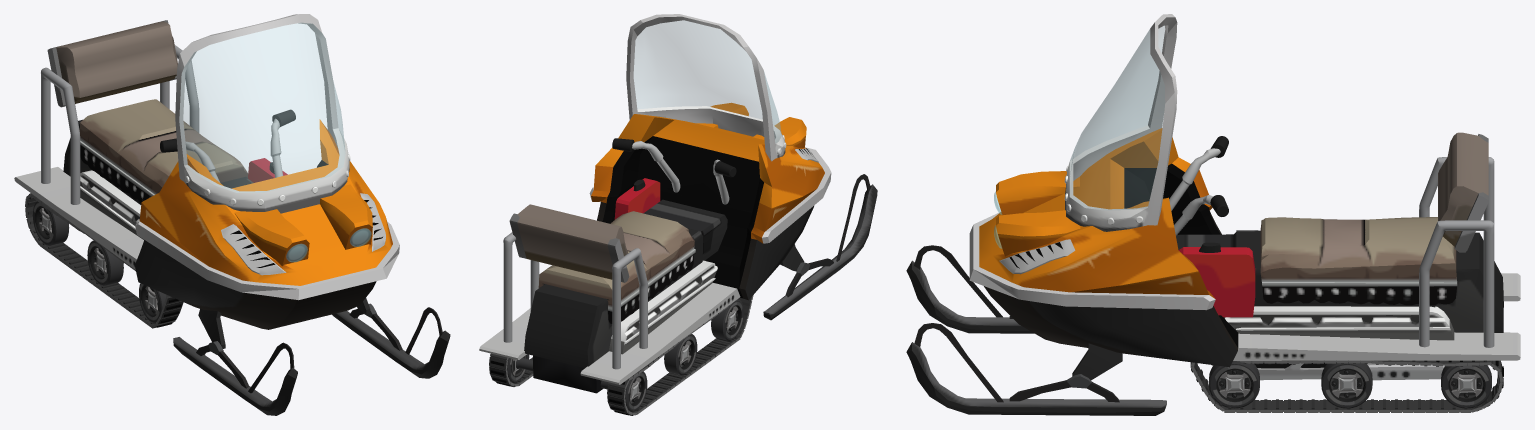
The model's file is hcr2_snowmobile.glb.
3 renders of one model, left to right at view 1: azimuth 30°, elevation 25°; view 2: azimuth 150°, elevation 25°; view 3: azimuth 270°, elevation 25°, orthographic. The views are drawn at different scales.
Visible parts, largest first — view 1: HCR2_SM_Hood_12, HCR2_SM_Window_1, HCR2_SM_Seat_9, HCR2_SM_Window_Frame_0, HCR2_SM_Skis_8, HCR2_SM_Chassis_14, HCR2_SM_Handles_13, HCR2_SM_Paths_10, HCR2_SM_Steer_7, HCR2_SM_Wheels_Mid_3, HCR2_SM_Wheels_Rear_2, HCR2_SM_Wheels_Front_4 (+2 smaller); view 2: HCR2_SM_Hood_12, HCR2_SM_Chassis_14, HCR2_SM_Seat_9, HCR2_SM_Window_1, HCR2_SM_Window_Frame_0, HCR2_SM_Handles_13, HCR2_SM_Skis_8, HCR2_SM_Paths_10, HCR2_SM_Support_6, HCR2_SM_Steer_7, HCR2_SM_Wheels_Rear_2, HCR2_SM_Tank_5 (+2 smaller); view 3: HCR2_SM_Hood_12, HCR2_SM_Seat_9, HCR2_SM_Chassis_14, HCR2_SM_Window_1, HCR2_SM_Skis_8, HCR2_SM_Window_Frame_0, HCR2_SM_Paths_10, HCR2_SM_Handles_13, HCR2_SM_Tank_5, HCR2_SM_Support_6, HCR2_SM_Wheels_Mid_3, HCR2_SM_Wheels_Front_4 (+2 smaller).
Boxes of the visible parts, x1,y1,x2,y2 form: HCR2_SM_Hood_12: (134, 119, 399, 329); HCR2_SM_Window_1: (179, 23, 345, 192); HCR2_SM_Seat_9: (47, 20, 248, 203); HCR2_SM_Window_Frame_0: (175, 14, 350, 213); HCR2_SM_Skis_8: (173, 298, 450, 415); HCR2_SM_Chassis_14: (14, 119, 253, 269); HCR2_SM_Handles_13: (41, 45, 199, 204); HCR2_SM_Paths_10: (25, 193, 183, 328); HCR2_SM_Steer_7: (160, 109, 295, 182); HCR2_SM_Wheels_Mid_3: (87, 240, 123, 285); HCR2_SM_Wheels_Rear_2: (32, 201, 69, 245); HCR2_SM_Wheels_Front_4: (139, 283, 166, 323); HCR2_SM_Hood_12: (589, 102, 831, 300); HCR2_SM_Chassis_14: (479, 199, 740, 384); HCR2_SM_Seat_9: (509, 204, 695, 323); HCR2_SM_Window_1: (634, 20, 781, 143); HCR2_SM_Window_Frame_0: (626, 14, 786, 161); HCR2_SM_Handles_13: (503, 232, 647, 369); HCR2_SM_Skis_8: (763, 174, 877, 320); HCR2_SM_Paths_10: (489, 295, 753, 415); HCR2_SM_Support_6: (533, 355, 603, 393); HCR2_SM_Steer_7: (612, 138, 736, 204); HCR2_SM_Wheels_Rear_2: (507, 354, 647, 411); HCR2_SM_Tank_5: (614, 178, 660, 219); HCR2_SM_Hood_12: (969, 128, 1238, 367); HCR2_SM_Seat_9: (1260, 132, 1488, 305); HCR2_SM_Chassis_14: (1176, 230, 1520, 360); HCR2_SM_Window_1: (1070, 26, 1164, 210); HCR2_SM_Skis_8: (906, 245, 1166, 415); HCR2_SM_Window_Frame_0: (1064, 14, 1177, 231); HCR2_SM_Paths_10: (1190, 301, 1503, 412); HCR2_SM_Handles_13: (1419, 157, 1494, 347); HCR2_SM_Tank_5: (1178, 242, 1255, 317); HCR2_SM_Support_6: (1211, 362, 1444, 380); HCR2_SM_Wheels_Mid_3: (1321, 362, 1372, 408); HCR2_SM_Wheels_Front_4: (1209, 361, 1259, 408).
Bounding box in the file's own units: 1.39 × 2.12 × 3.47.
Materials: 3 (1 with a texture image).
